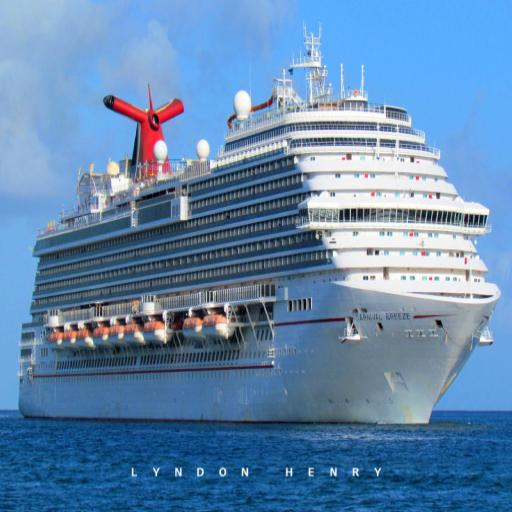cruises: (16, 20, 502, 426)
